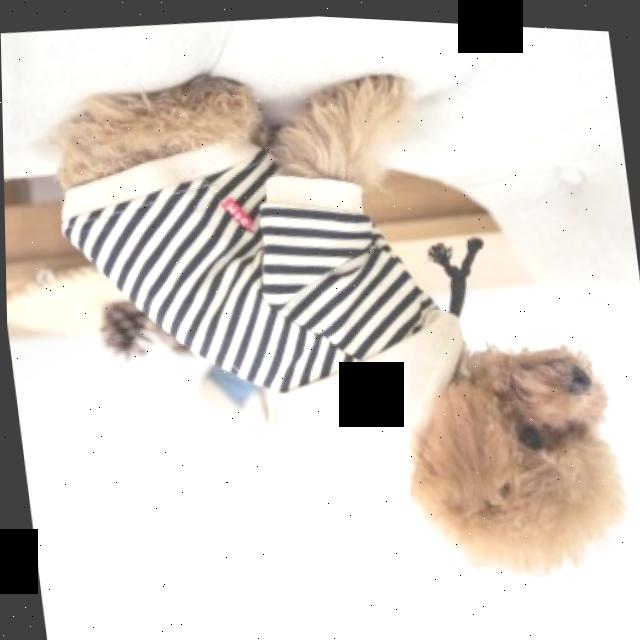cloth: (62, 142, 460, 495)
